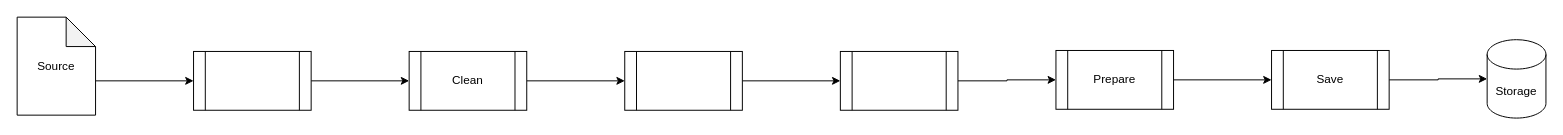
Image size: 1563x135. Some labels were removed from this diagram. The shapes that lost their labels are listed below. From the top down, each one's centre as x and y in pixels, then its label:
At pixel 252 80: "Load".
At pixel 683 80: "Normalization".
At pixel 898 80: "Filter".
